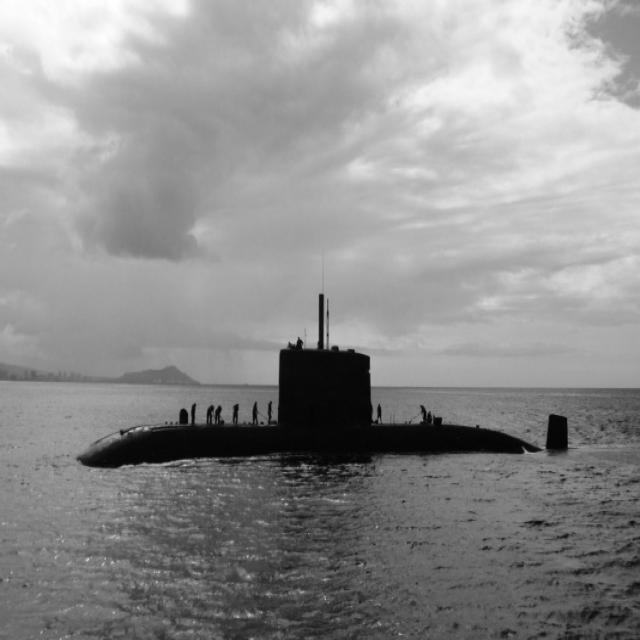submarine: (77, 294, 571, 467)
